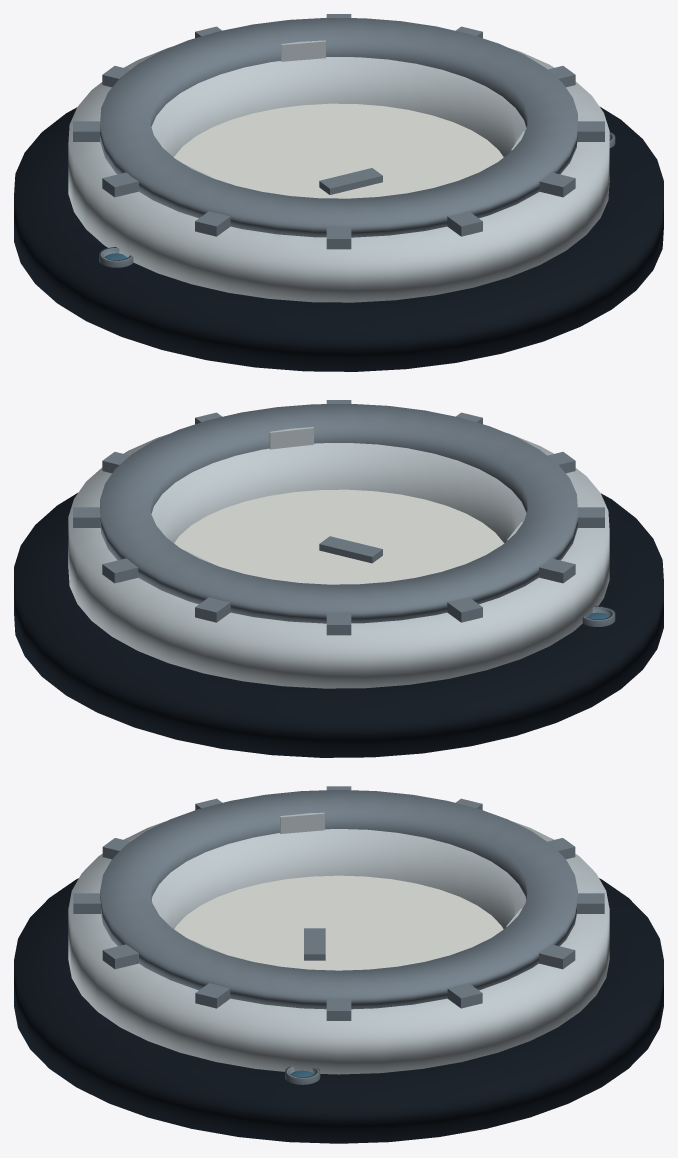
Rendered from dragon_dock.glb.
3 renders of one model, top to bottom at view 1: azimuth 30°, elevation 25°; view 2: azimuth 150°, elevation 25°; view 3: azimuth 270°, elevation 25°, orthographic.
Visible parts, largest first — view 1: dragon_dock.mesh_Shadowed_interior, dragon_dock.mesh_Satin_aluminum, dragon_dock.mesh_Machined_steel, dragon_dock.hatch.mesh_Pale_thermal_blanket, dragon_dock.hatch.mesh_Machined_steel, dragon_dock.capture_guide_02.mesh_Satin_aluminum; view 2: dragon_dock.mesh_Shadowed_interior, dragon_dock.mesh_Satin_aluminum, dragon_dock.mesh_Machined_steel, dragon_dock.hatch.mesh_Pale_thermal_blanket, dragon_dock.hatch.mesh_Machined_steel, dragon_dock.capture_guide_01.mesh_Satin_aluminum; view 3: dragon_dock.mesh_Shadowed_interior, dragon_dock.mesh_Satin_aluminum, dragon_dock.mesh_Machined_steel, dragon_dock.hatch.mesh_Pale_thermal_blanket, dragon_dock.capture_guide_03.mesh_Satin_aluminum, dragon_dock.hatch.mesh_Machined_steel.
Part boxes in pixels (x1,y1,x2,y2): dragon_dock.mesh_Shadowed_interior: (14, 107, 663, 371); dragon_dock.mesh_Satin_aluminum: (68, 47, 609, 302); dragon_dock.mesh_Machined_steel: (73, 14, 604, 249); dragon_dock.hatch.mesh_Pale_thermal_blanket: (173, 103, 503, 198); dragon_dock.hatch.mesh_Machined_steel: (319, 168, 382, 194); dragon_dock.capture_guide_02.mesh_Satin_aluminum: (281, 40, 325, 61); dragon_dock.mesh_Shadowed_interior: (14, 493, 663, 757); dragon_dock.mesh_Satin_aluminum: (68, 433, 609, 688); dragon_dock.mesh_Machined_steel: (73, 400, 604, 635); dragon_dock.hatch.mesh_Pale_thermal_blanket: (174, 489, 504, 584); dragon_dock.hatch.mesh_Machined_steel: (319, 536, 382, 563); dragon_dock.capture_guide_01.mesh_Satin_aluminum: (269, 427, 313, 449); dragon_dock.mesh_Shadowed_interior: (14, 878, 663, 1143); dragon_dock.mesh_Satin_aluminum: (68, 821, 609, 1074); dragon_dock.mesh_Machined_steel: (73, 786, 604, 1020); dragon_dock.hatch.mesh_Pale_thermal_blanket: (174, 875, 503, 970); dragon_dock.capture_guide_03.mesh_Satin_aluminum: (280, 812, 324, 833); dragon_dock.hatch.mesh_Machined_steel: (304, 928, 325, 960).
Bounding box in the file's own units: 1.91 × 0.375 × 1.91.
